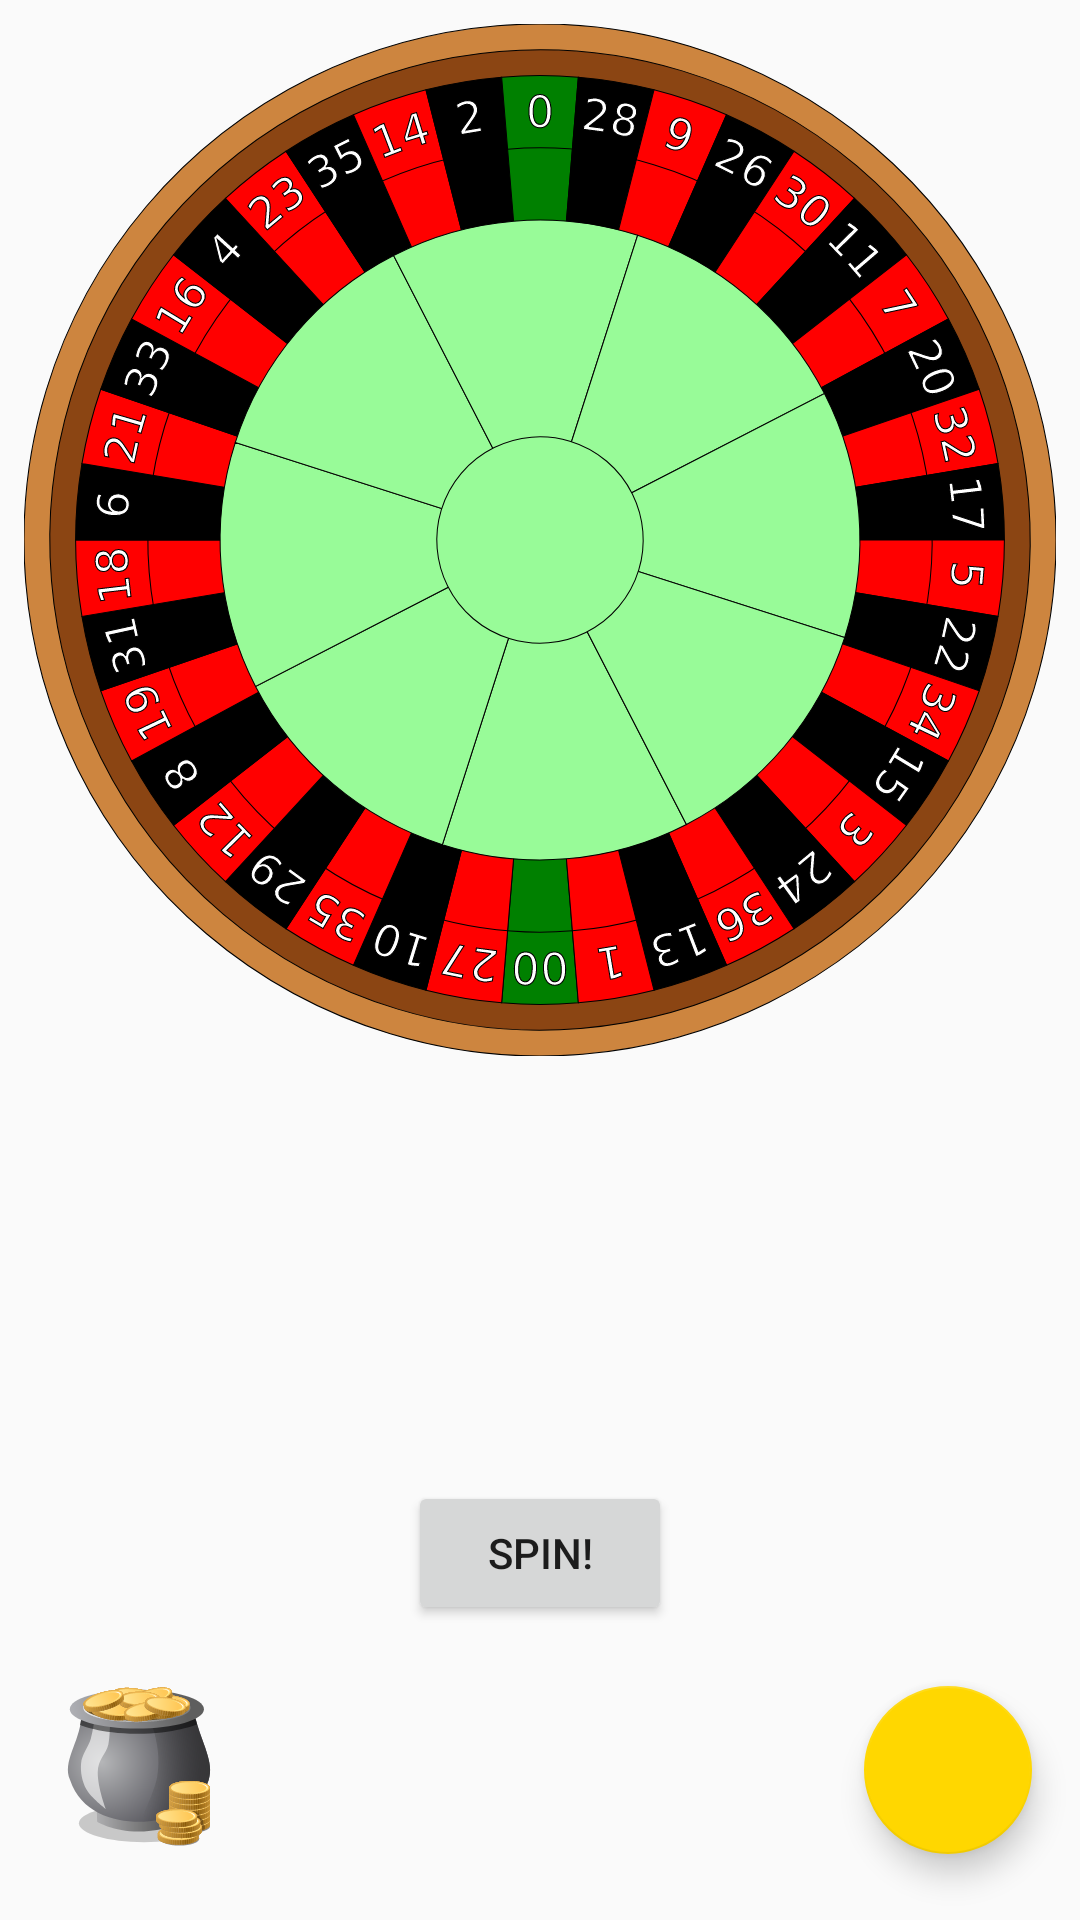

Locate icon controls on the screen. Image size 1080w x 1920h, boxes as {"left": x1, "top": y1, "right": x2, "bottom": y2}.
starting pot: {"left": 68, "top": 1687, "right": 210, "bottom": 1846}
